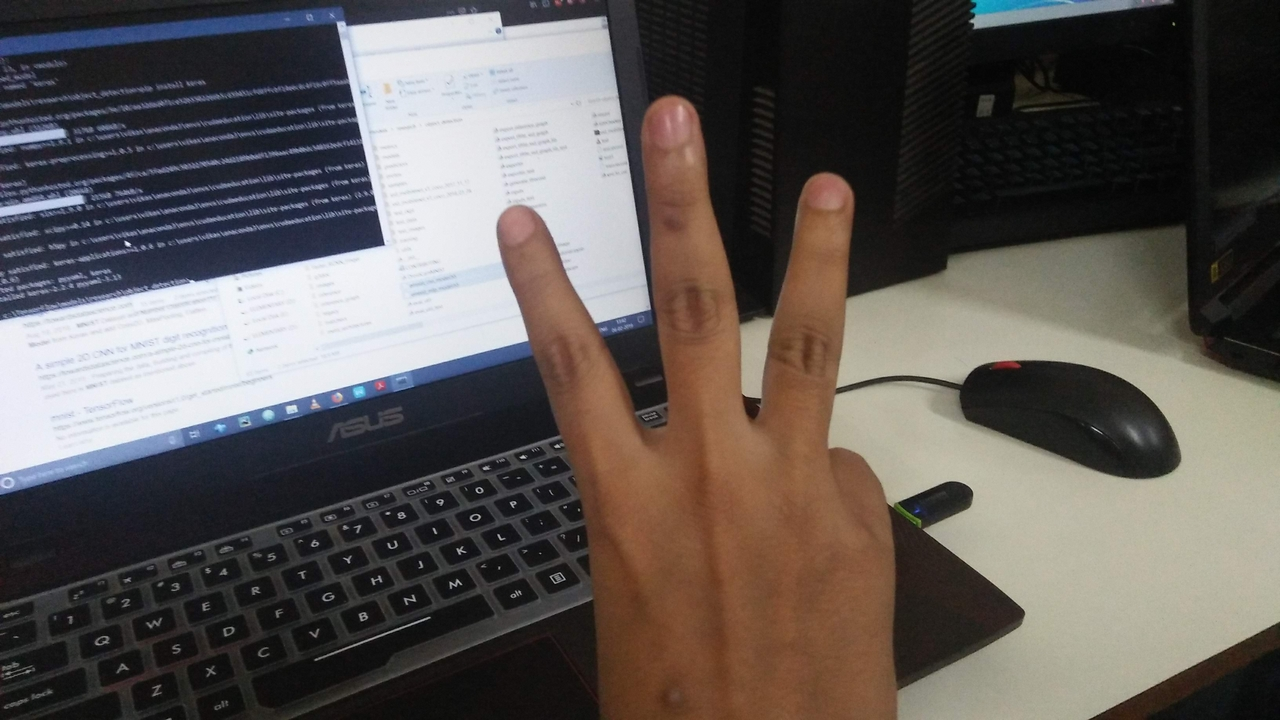fingertip: (638, 90, 706, 158), (488, 198, 556, 258), (796, 170, 862, 230)
